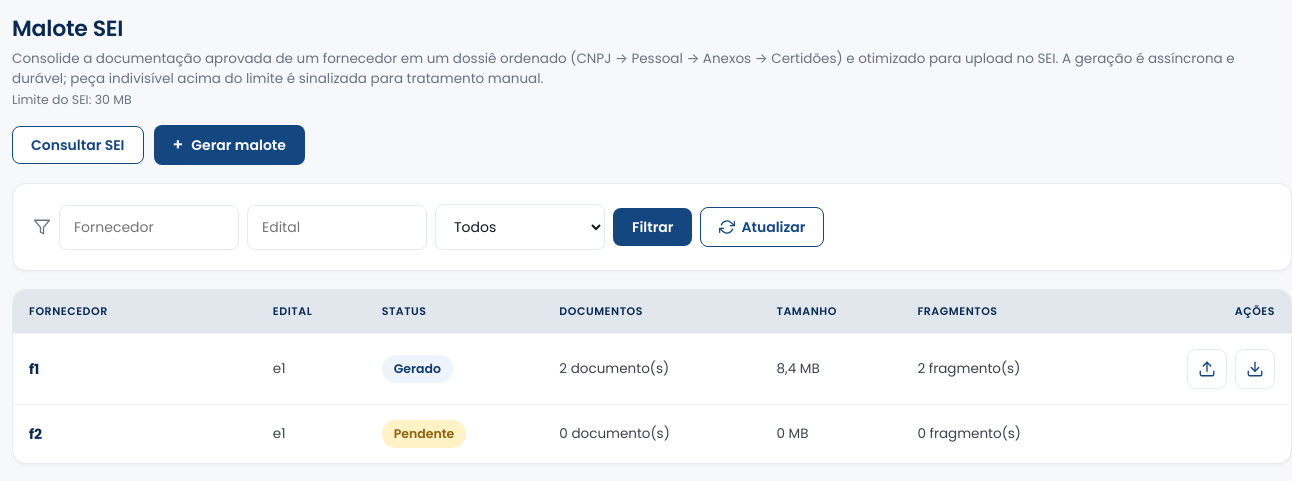
Test: GerarMalote — Painel Admin do malote SEI (UC010) › lista malotes numa tabela com status; exporta um gerado delegando ao módulo dono (FR-004)
Expected: the number of rows with test id "item-malote" is 2, [13,334,1291,404]; [13,404,1291,463]
Click the button with test id "exportar" at (1255, 369), box [1235,349,1275,389]
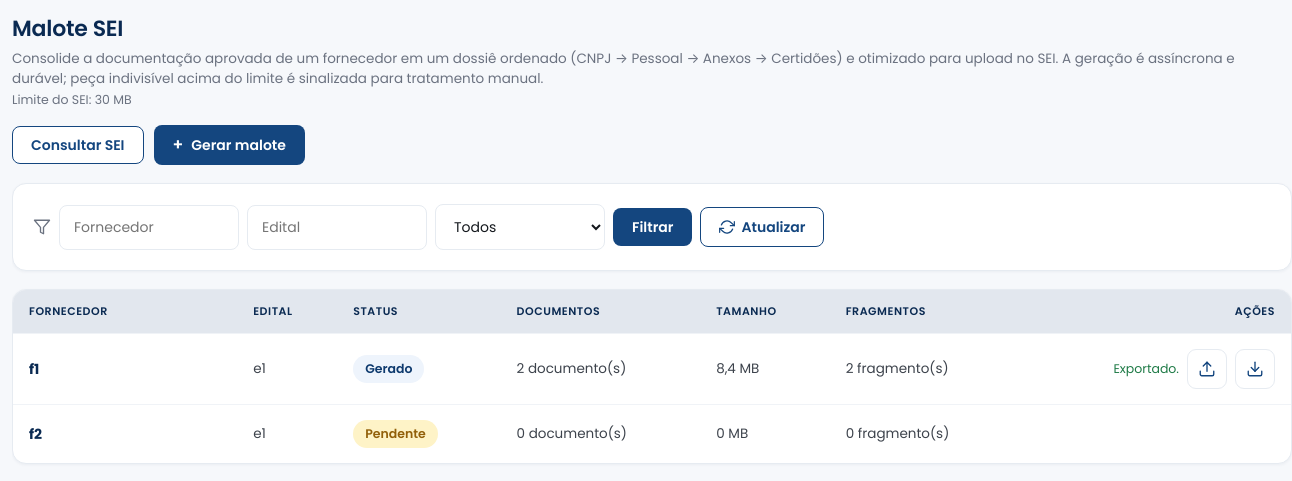
Result: the text "Exportado." is shown at [1113,360,1179,378]
